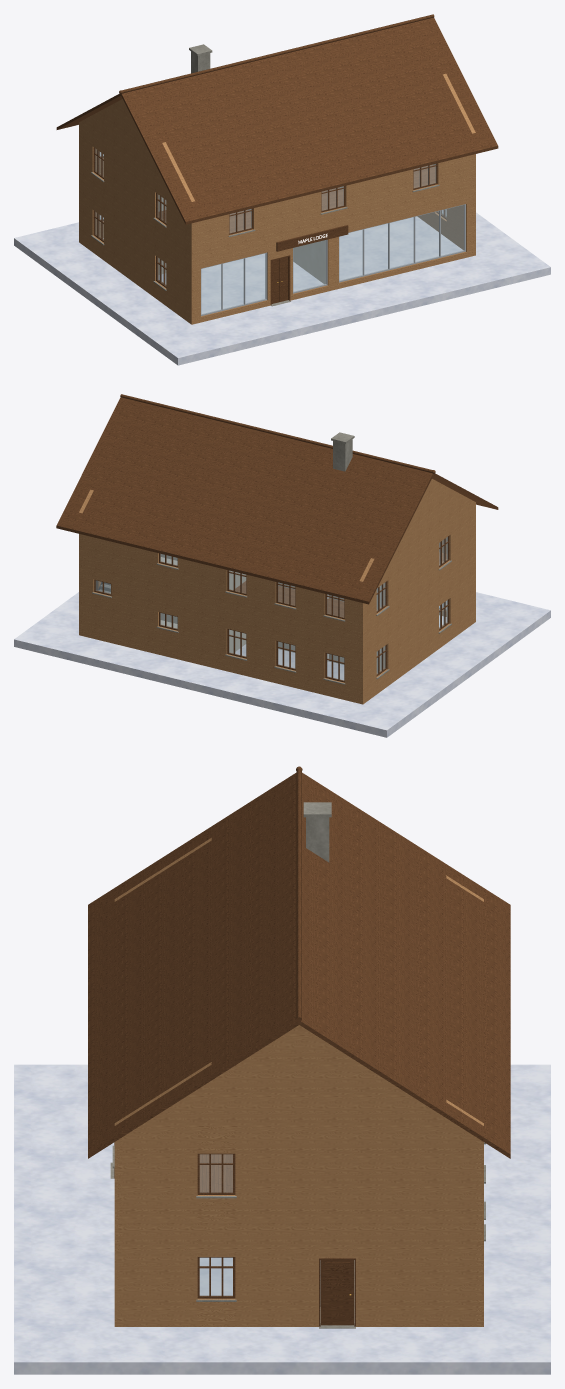
The model's file is b_canadian_lodge.gltf.
3 views of the same model, one above another, from view 1: azimuth 30°, elevation 25°; view 2: azimuth 150°, elevation 25°; view 3: azimuth 270°, elevation 25° (orthographic). The views are drawn at different scales.
Parts seen in each view (by area): view 1: S_canadian_lodge, D_canadian_lodge_F1_S3_Door1; view 2: S_canadian_lodge; view 3: S_canadian_lodge, D_canadian_lodge_F1_E1_Door0.
Boxes of the visible parts, x1,y1,x2,y2 form: S_canadian_lodge: (14,14,550,365); D_canadian_lodge_F1_S3_Door1: (279,257,288,301); S_canadian_lodge: (14,394,550,737); S_canadian_lodge: (14,766,550,1374); D_canadian_lodge_F1_E1_Door0: (321,1260,353,1325).
Size of the model in its own units: 21 by 11.85 by 16.
Materials: 17 (10 with a texture image).
